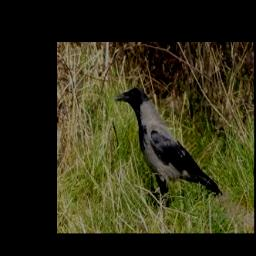Crow: (114, 88, 223, 207)
